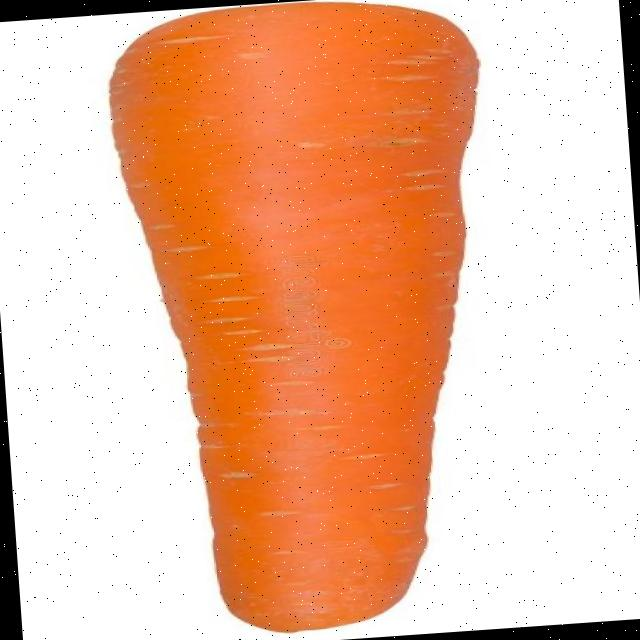carrot: (110, 2, 477, 632)
